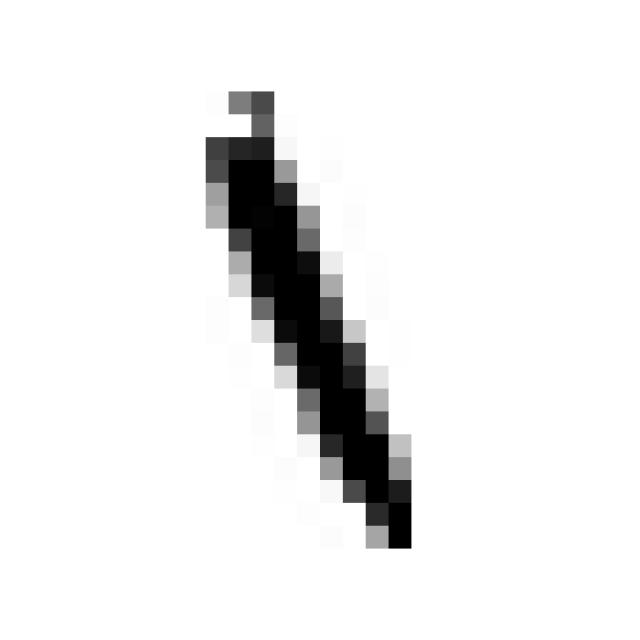1 -one-: (183, 69, 430, 565)
